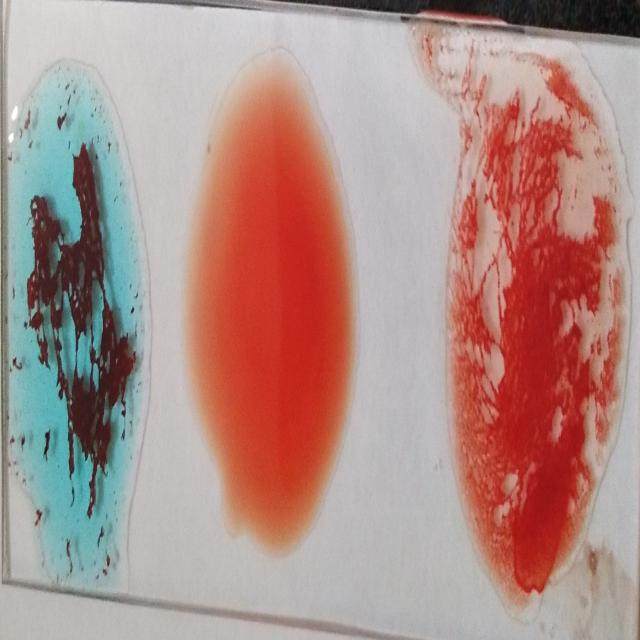A: (7, 82, 146, 595)
D: (452, 72, 636, 606)
